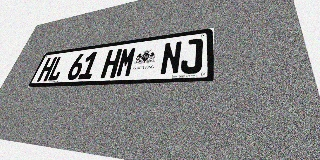1: (78, 51, 100, 80)
6: (66, 53, 87, 80)
H: (100, 48, 122, 78), (36, 57, 57, 82)
J: (180, 38, 203, 74)
L: (46, 56, 68, 81)
M: (115, 46, 138, 78)
N: (159, 41, 182, 75)
